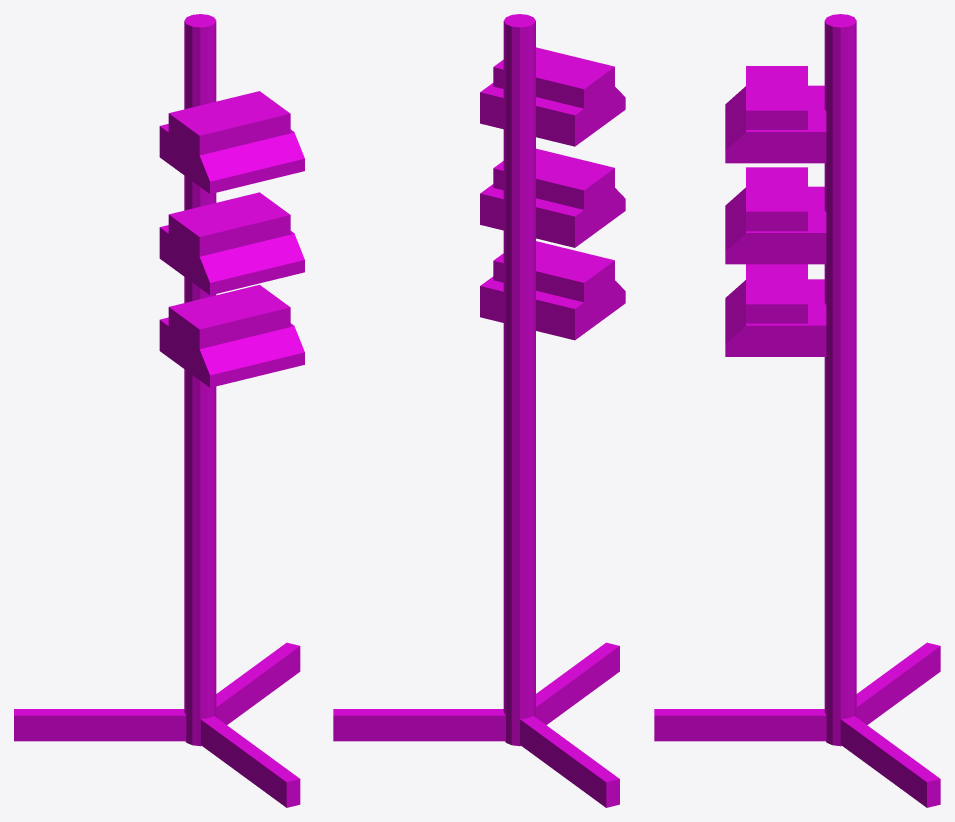
The model's file is SM_MachineCCollider.fbx.
The picture shows the model from 3 angles, left to right: view 1: azimuth 30°, elevation 25°; view 2: azimuth 150°, elevation 25°; view 3: azimuth 270°, elevation 25°; orthographic projection.
Parts seen in each view (by area): view 1: MachineCCollision; view 2: MachineCCollision; view 3: MachineCCollision.
Part boxes in pixels (box(x1,y1,x2,y2)): MachineCCollision: box(14, 14, 304, 807); MachineCCollision: box(333, 14, 625, 807); MachineCCollision: box(654, 14, 940, 807).
Bounding box in the file's own units: 81.52 × 195 × 70.6.
